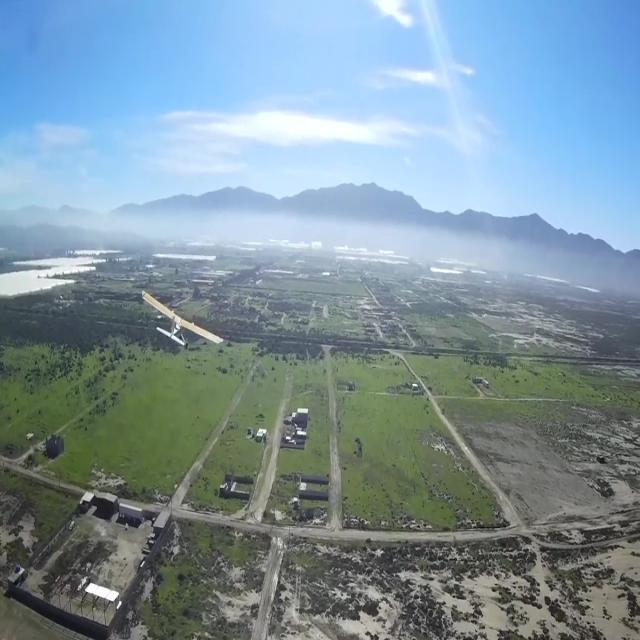iha: (174, 289, 192, 352)
